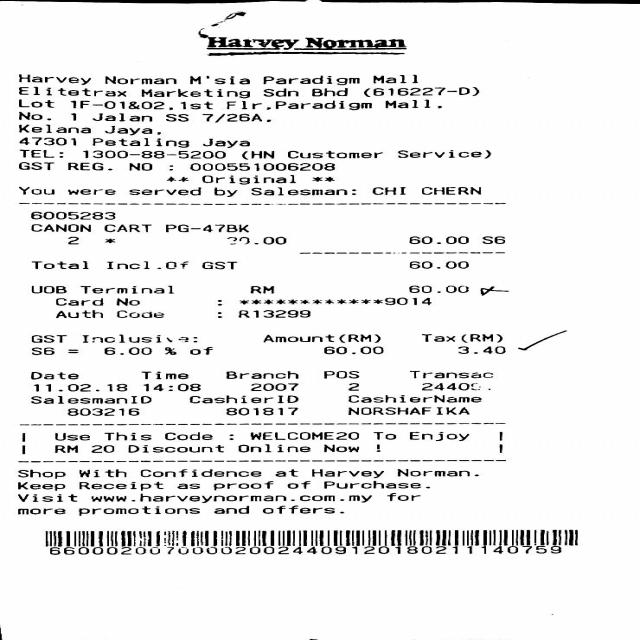text: (48, 546, 560, 554), (90, 493, 369, 502), (227, 100, 370, 109), (68, 100, 210, 109), (207, 36, 298, 50), (189, 162, 332, 170), (82, 150, 224, 158), (76, 506, 197, 515), (346, 394, 479, 402), (262, 333, 378, 342), (362, 87, 476, 96), (304, 37, 404, 47), (16, 86, 124, 95), (140, 88, 247, 97), (91, 137, 187, 147), (28, 396, 148, 404), (140, 468, 260, 476), (202, 174, 294, 184), (81, 334, 196, 342), (262, 75, 358, 84), (188, 395, 296, 403), (347, 407, 468, 414), (251, 187, 356, 195), (324, 480, 428, 488), (126, 444, 222, 452), (287, 150, 382, 158), (78, 481, 162, 490), (395, 150, 489, 158), (31, 383, 125, 391), (250, 432, 357, 439), (78, 285, 171, 293), (16, 74, 88, 84), (310, 468, 382, 478), (30, 211, 114, 219), (165, 224, 248, 232), (421, 334, 503, 342), (396, 468, 478, 476), (261, 505, 343, 513), (16, 124, 88, 133), (200, 113, 268, 122), (212, 480, 271, 490), (408, 370, 492, 377), (225, 370, 297, 378), (237, 309, 308, 317), (237, 444, 308, 452), (188, 75, 251, 84), (408, 432, 468, 441), (383, 99, 439, 108), (127, 187, 199, 194), (225, 407, 297, 414), (65, 408, 137, 415), (104, 76, 174, 83), (419, 382, 480, 390), (322, 346, 382, 354), (91, 113, 150, 121), (421, 186, 479, 194), (18, 493, 76, 501), (227, 236, 284, 244), (102, 126, 158, 134), (18, 137, 74, 145), (30, 260, 86, 268), (16, 469, 63, 478), (202, 138, 248, 147), (30, 224, 89, 231), (407, 236, 466, 243), (408, 261, 467, 268), (407, 285, 466, 292), (142, 383, 199, 390), (373, 74, 416, 83), (102, 346, 150, 354), (105, 260, 147, 269), (384, 296, 431, 304), (29, 371, 76, 379), (77, 468, 124, 476), (16, 482, 63, 490), (103, 432, 149, 440), (18, 149, 62, 157), (68, 162, 110, 170), (102, 224, 150, 231), (114, 310, 162, 317), (249, 383, 296, 390), (55, 298, 101, 305), (457, 346, 503, 353), (140, 371, 186, 378), (164, 432, 210, 439), (56, 310, 101, 317), (311, 87, 345, 96), (16, 111, 48, 120), (240, 150, 272, 159), (67, 188, 114, 194), (262, 88, 297, 96), (17, 99, 52, 107), (17, 162, 52, 170), (17, 186, 52, 194), (201, 261, 235, 269), (30, 285, 64, 293), (322, 370, 356, 378), (322, 444, 356, 452), (213, 505, 247, 513), (386, 492, 418, 500), (156, 260, 187, 268), (30, 335, 64, 342), (53, 433, 87, 440), (16, 508, 63, 513), (371, 187, 403, 194), (213, 187, 235, 196), (285, 480, 309, 488), (249, 285, 272, 293), (128, 162, 150, 170), (189, 346, 211, 354), (114, 298, 138, 305), (89, 445, 112, 452), (273, 469, 296, 476), (480, 236, 502, 243), (372, 432, 393, 439), (54, 445, 75, 452), (29, 348, 52, 354), (164, 114, 186, 120), (175, 483, 197, 489), (163, 346, 174, 354), (67, 236, 77, 243), (346, 383, 356, 390), (69, 112, 77, 120)
